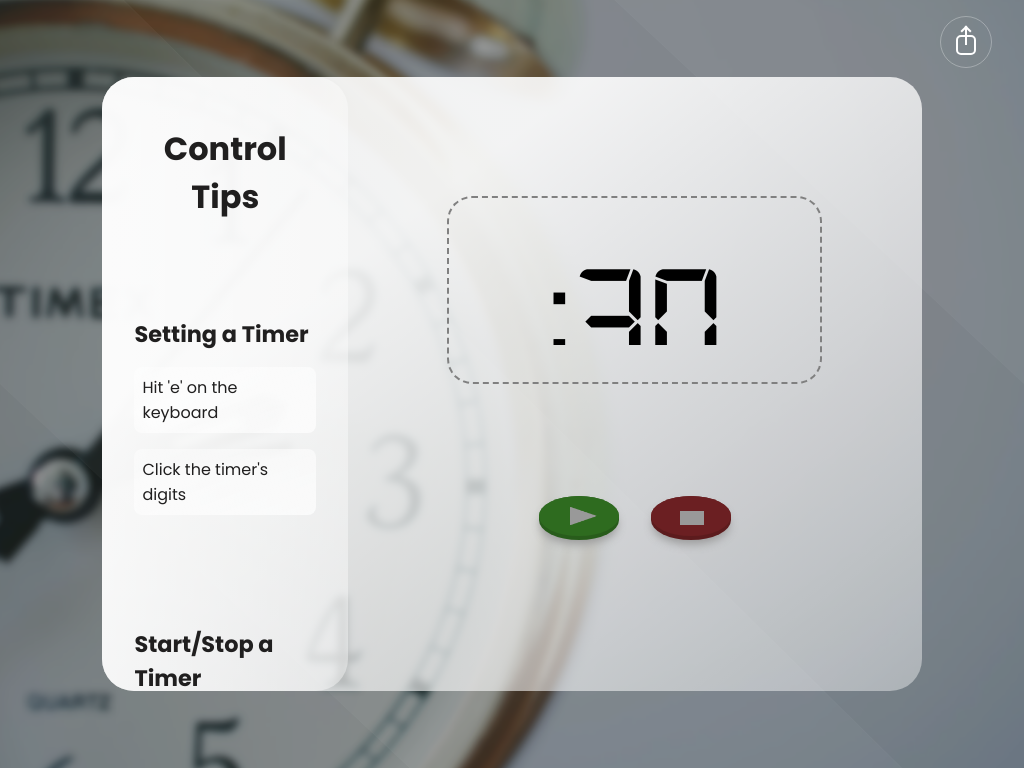
Digital Chronometer › should show share confirmation only when share button is clicked and hide on unfocus
Click the button named "share". click: (966, 42)
box: [940,16,992,68]
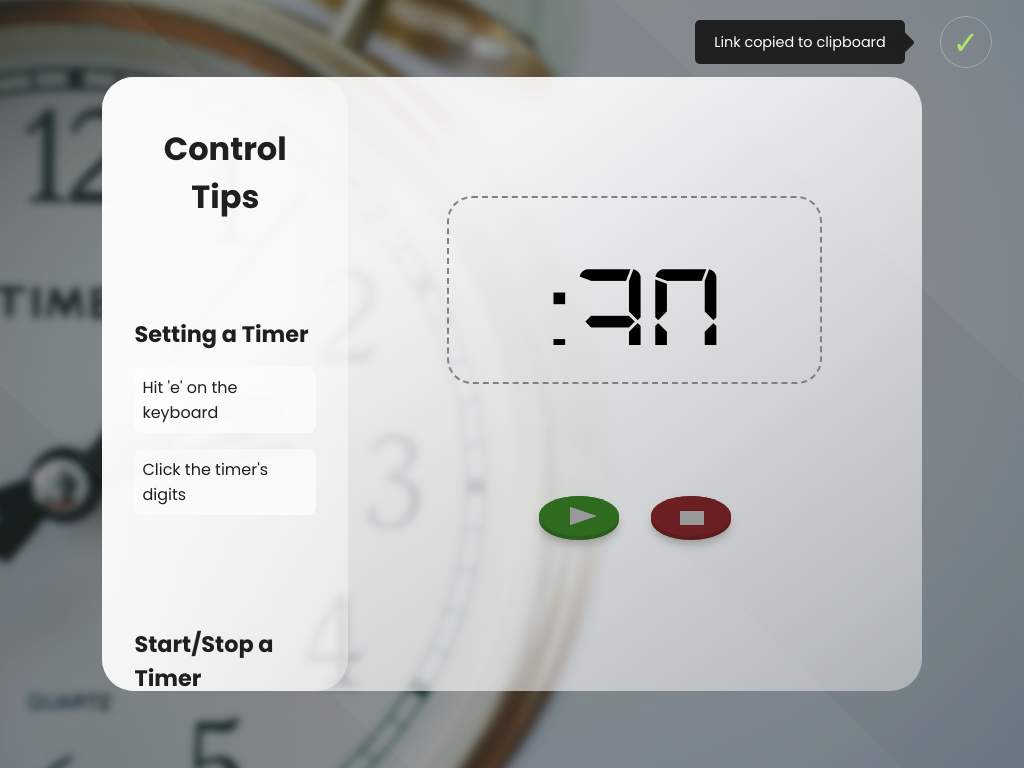
Check: the text "Link copied to clipboard" is shown, box [695,20,905,64]
Click the field with test id "chronometer-edit". click: (635, 290)
box: [447,196,822,384]
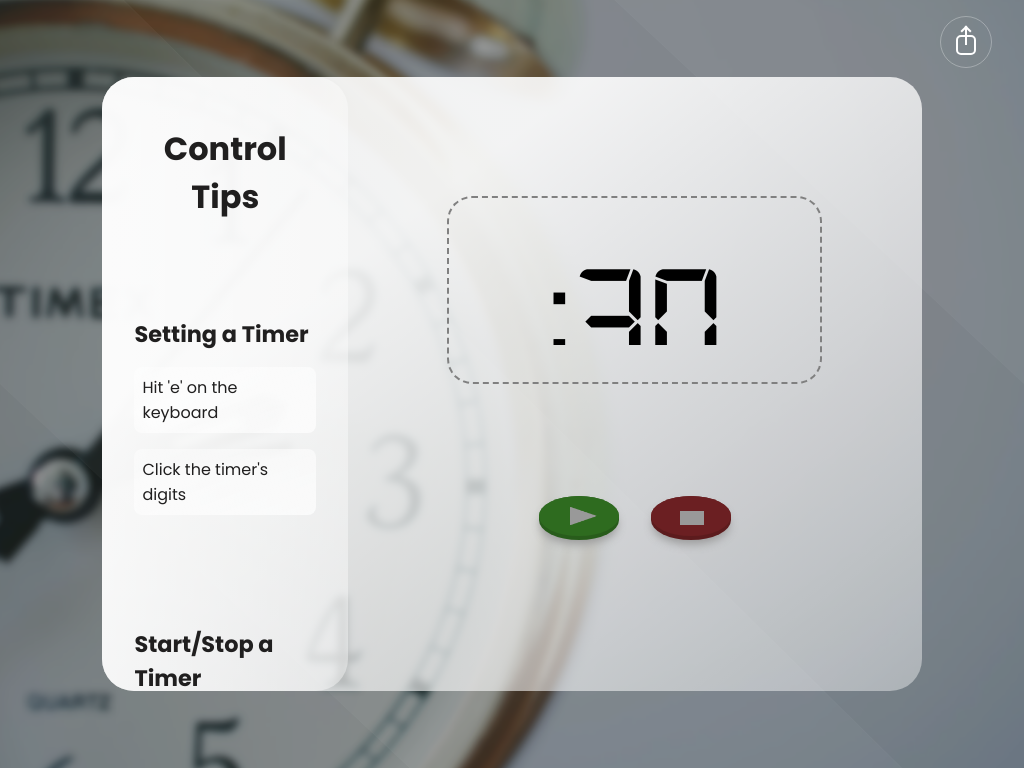
Check: the text with test id "share_confirmed" is gone
